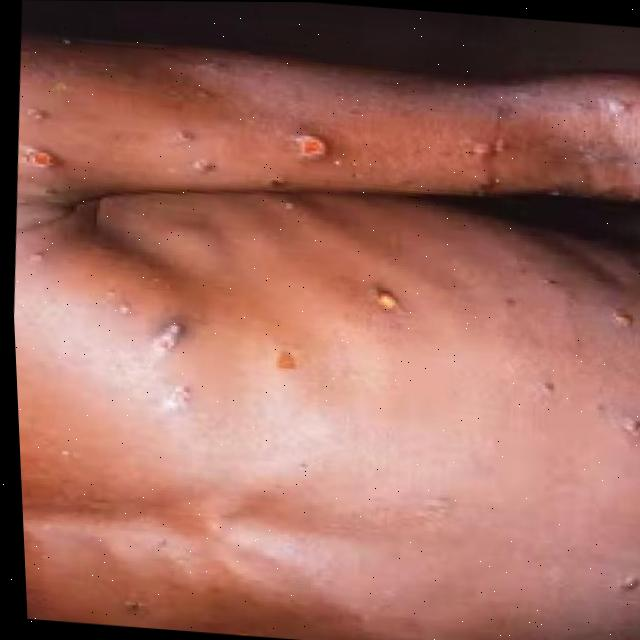Eczema: (375, 286, 424, 325), (30, 142, 65, 176), (160, 331, 187, 361), (473, 132, 491, 167), (297, 130, 316, 156)
